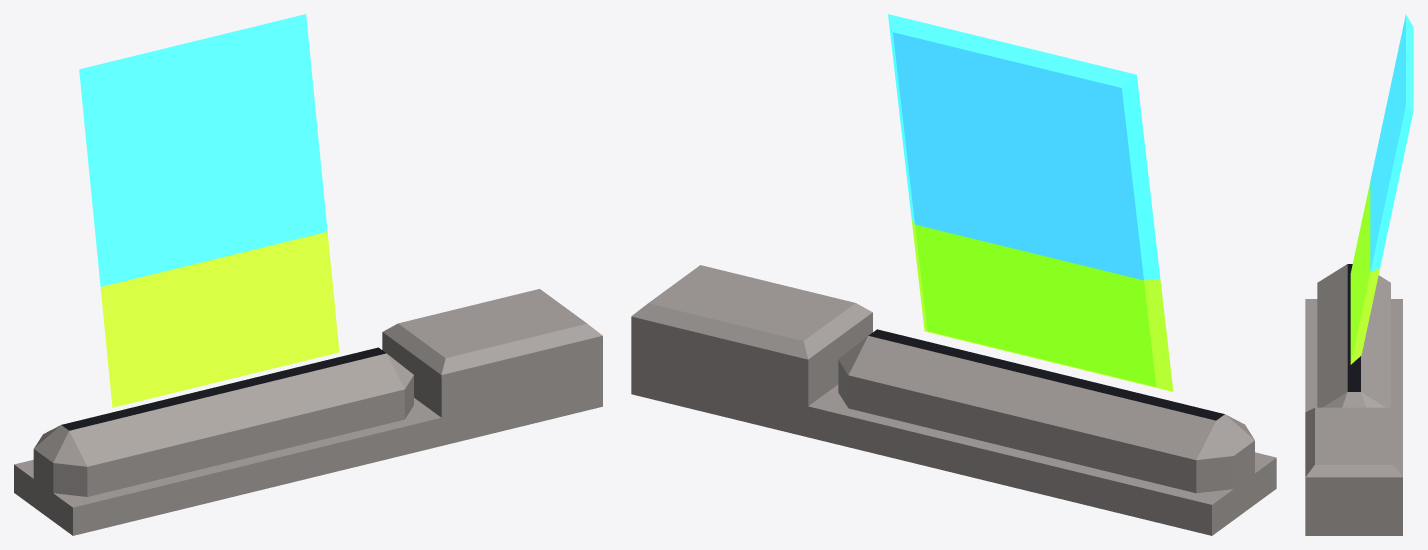
File: scifi-scifi-frame-digital-b.glb
3 renders of one model, left to right at view 1: azimuth 30°, elevation 25°; view 2: azimuth 150°, elevation 25°; view 3: azimuth 270°, elevation 25°, orthographic. The views are drawn at different scales.
Visible parts, largest first — view 1: scifi-frame-digital-b; view 2: scifi-frame-digital-b; view 3: scifi-frame-digital-b.
Boxes of the visible parts, x1,y1,x2,y2 form: scifi-frame-digital-b: [14, 14, 602, 535]; scifi-frame-digital-b: [631, 14, 1276, 535]; scifi-frame-digital-b: [1305, 14, 1413, 535].
Bounding box in the file's own units: 0.45 × 0.3292 × 0.0962.
